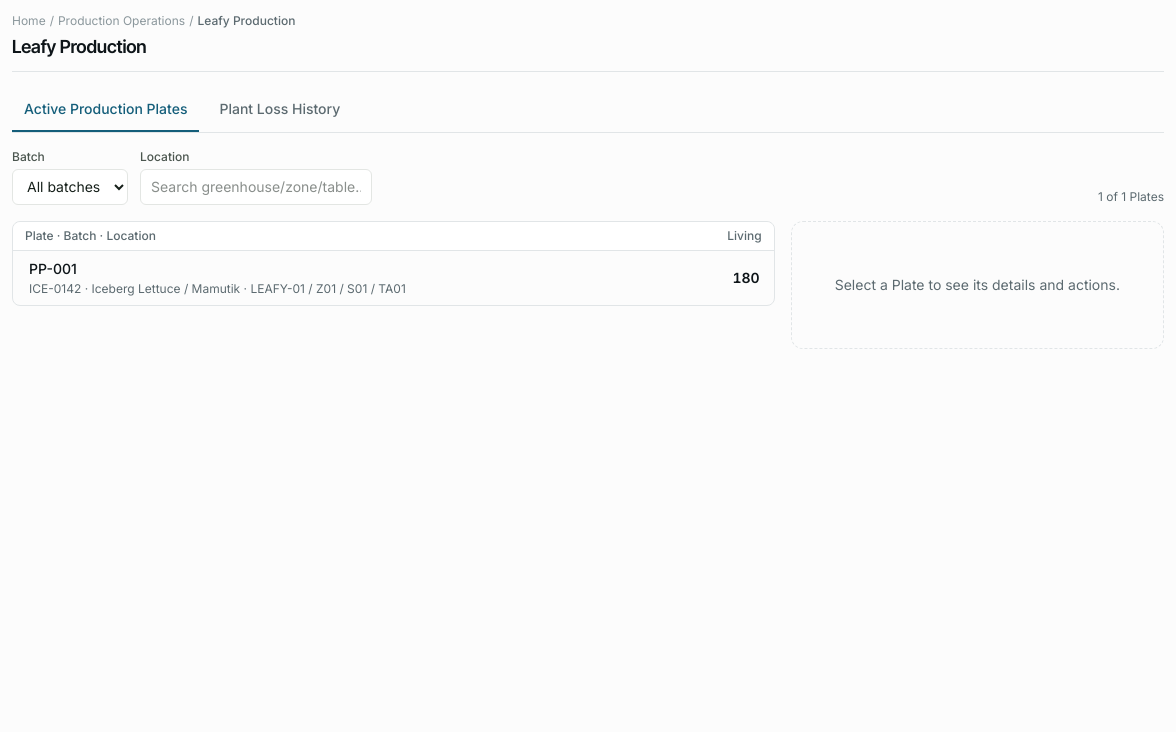
Scenario: LeafyProductionPage › shows zero-result wording without implying the Plate was moved or sanitized
Expected: the text "PP-001" is shown, [29,258,77,278]
Click the button "PP-001".
click(375, 278)  # box [29,258,720,296]
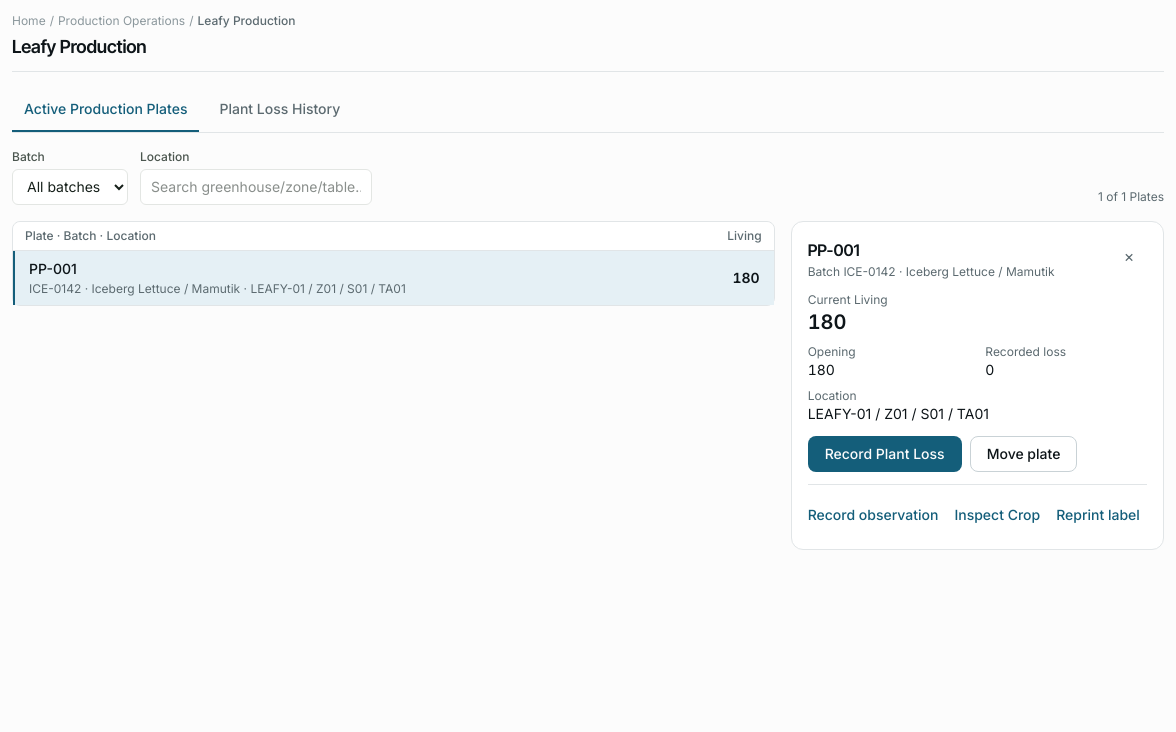
Click the button "Record Plant Loss".
click(885, 454)  # box [808,436,962,472]
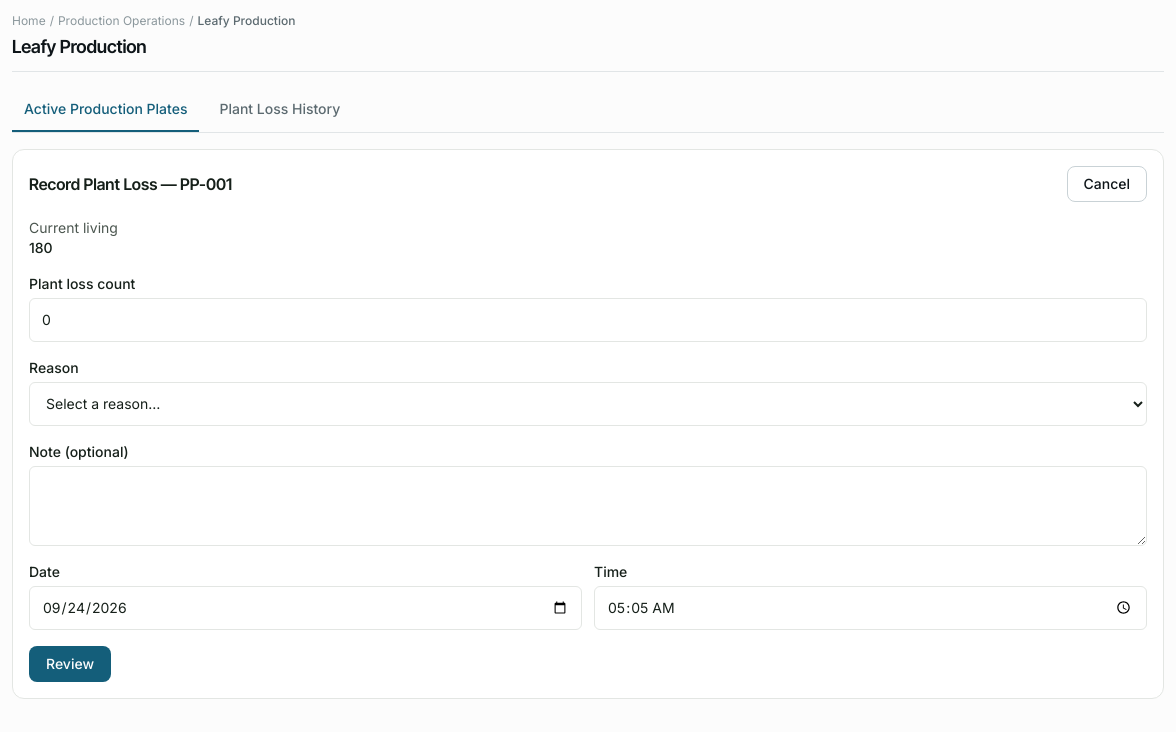
Expected: the number field labelled "Plant loss count" is shown
Replace the text in the number field labelled "Plant loss count" with "5" at (588, 320), box [29,298,1147,342]
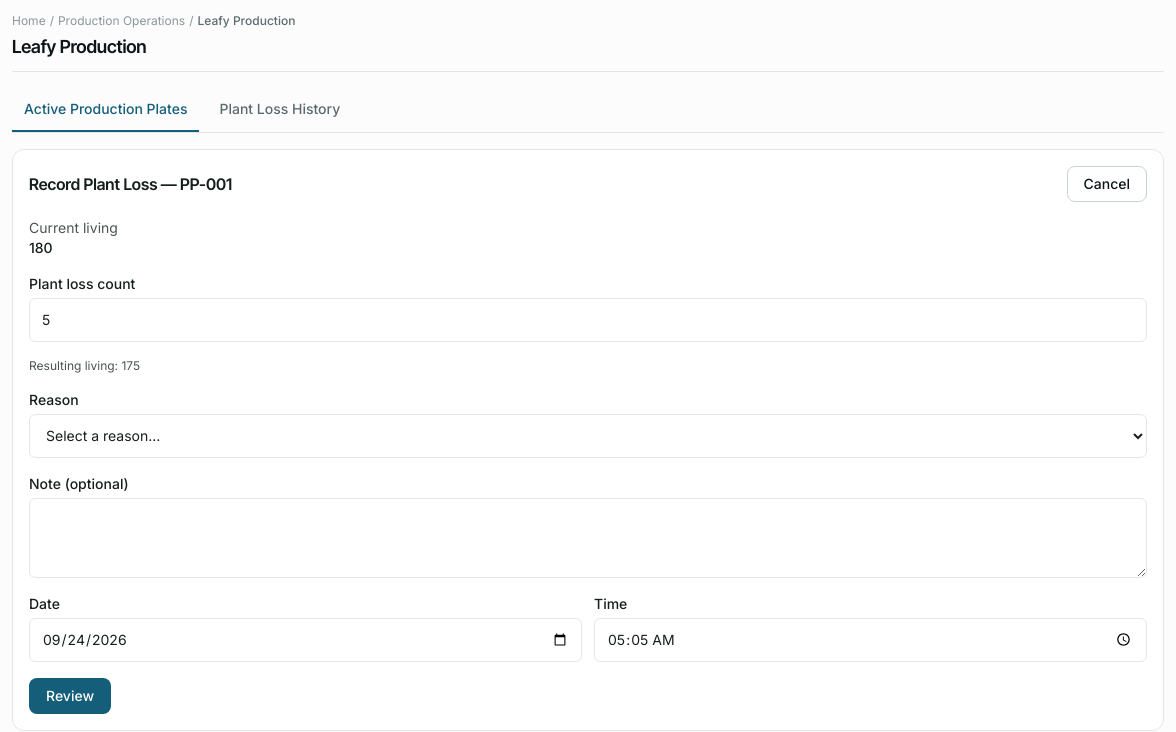
Select "Dead" in the dropdown labelled "Reason" at (588, 436), box [29,414,1147,458]
Type "2026-08-22" into the date field labelled "Date".
click(306, 640); type("2026-08-22")  # box [29,618,582,662]
Replace the text in the time field labelled "Time" with "09:00" at (870, 640), box [594,618,1147,662]
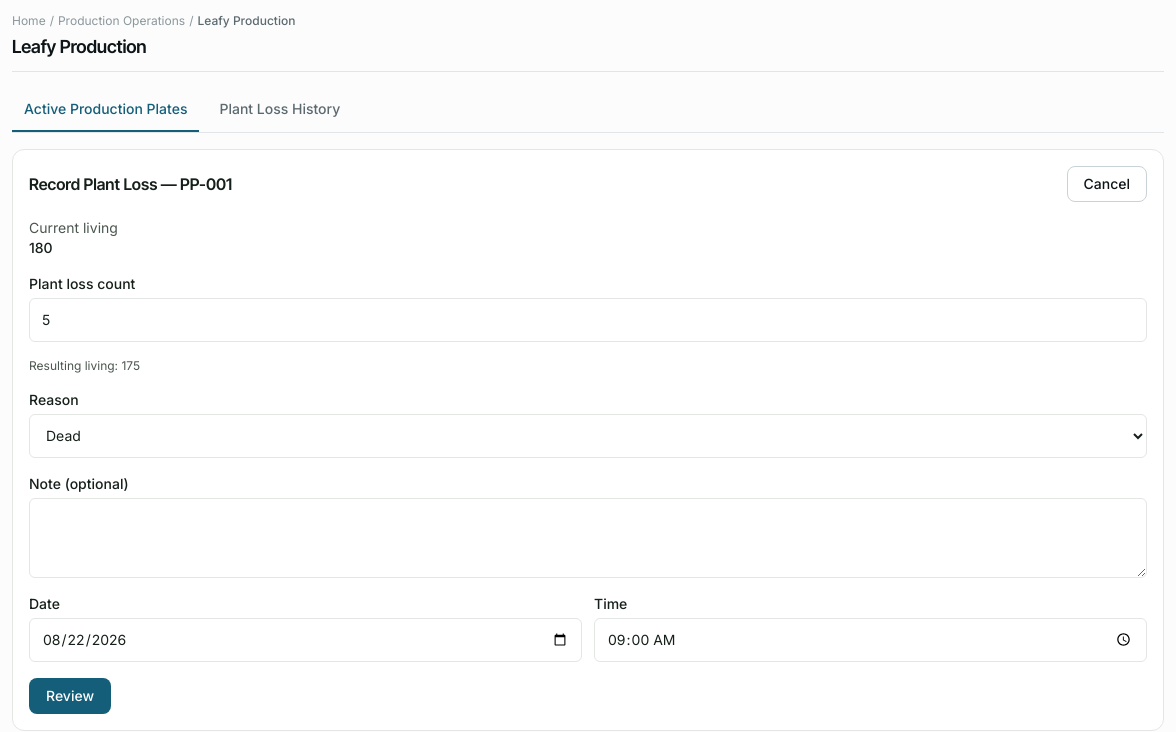
Click the button "Review".
click(70, 696)  # box [29,678,111,714]
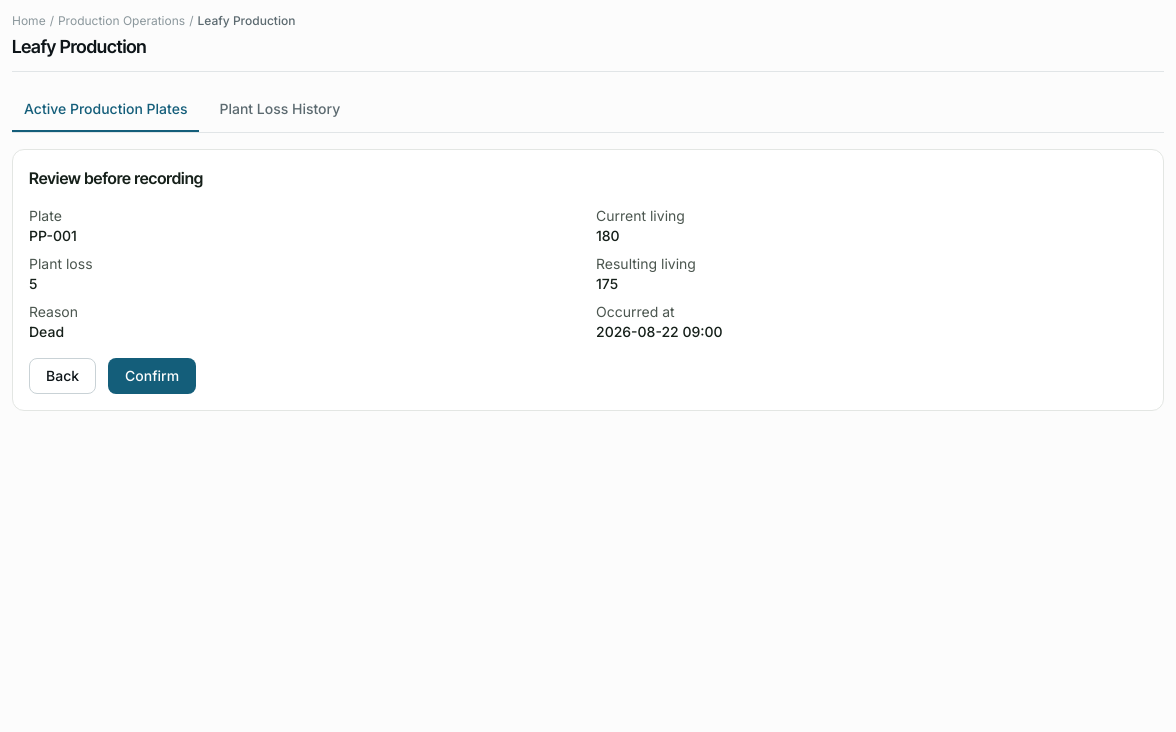
Expected: the heading "Review before recording" is shown, [29,168,203,188]
Click the button "Confirm".
click(152, 376)  # box [108,358,196,394]
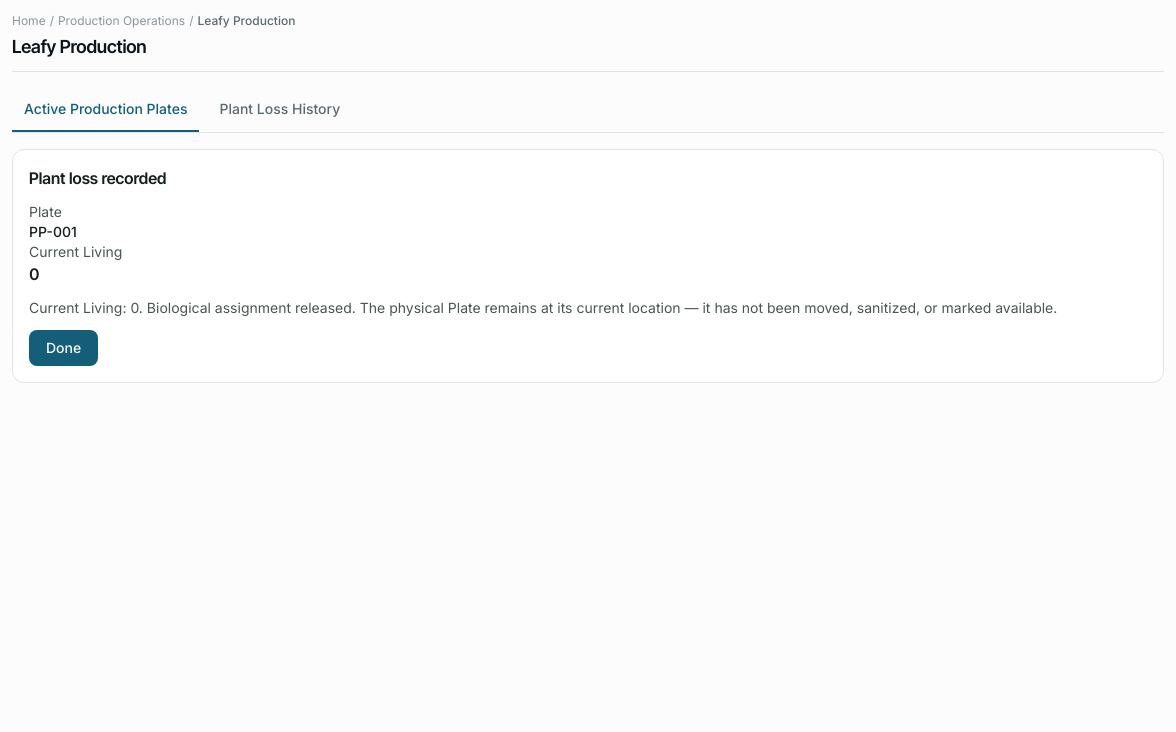
Expected: the heading "Plant loss recorded" is shown, [29,168,166,188]
Expected: the text "has not been moved, sanitized, or marked available" is shown, [29,298,1057,316]
